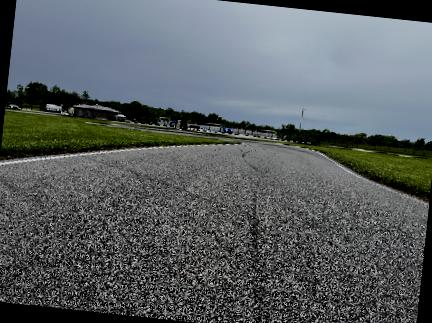Grass: (0, 112, 233, 158), (0, 112, 230, 157), (311, 146, 431, 196)
Lane: (0, 140, 428, 322)
